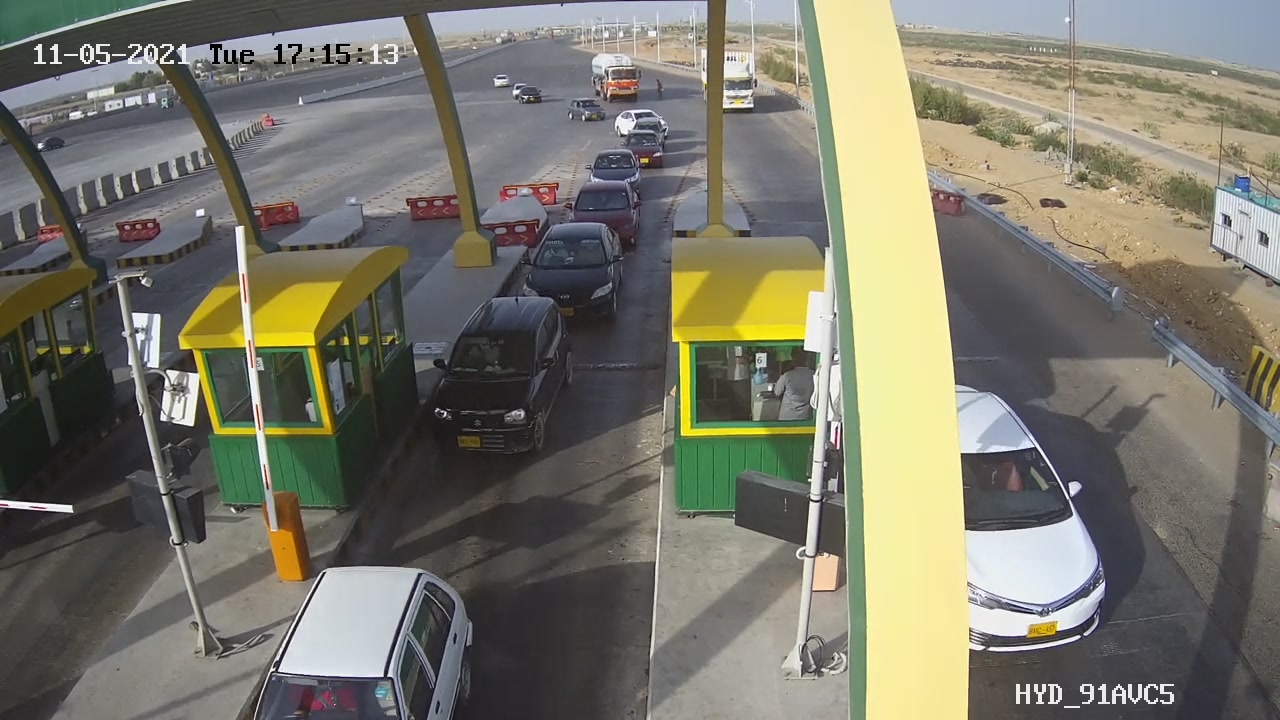F1: (412, 285, 587, 469), (509, 212, 638, 329)
